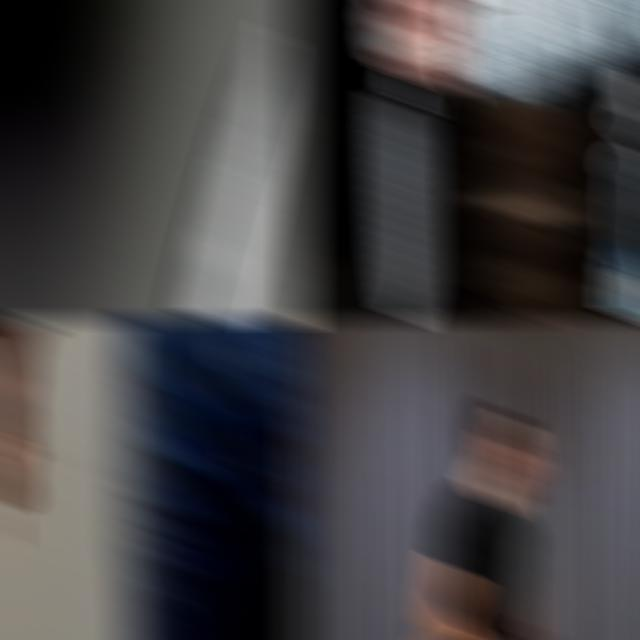Knife: (177, 27, 291, 323), (372, 83, 434, 323)
Knife_Handle: (370, 0, 468, 323), (482, 621, 549, 640)
